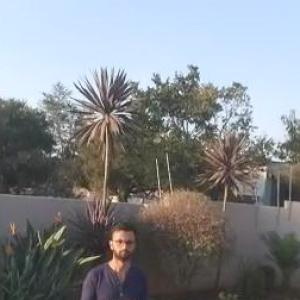follow: (72, 215, 157, 299)
